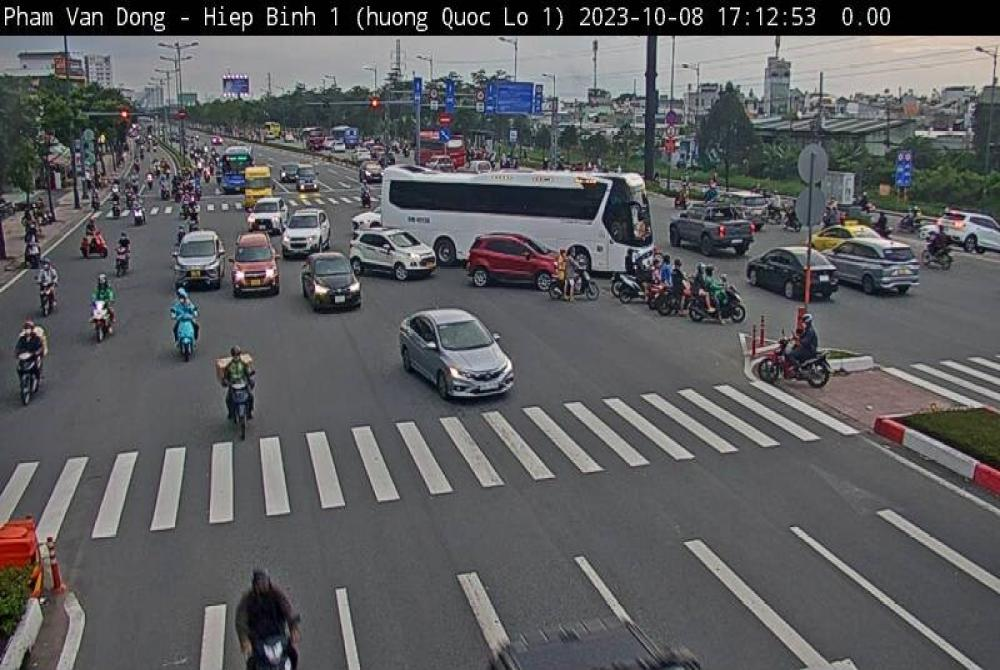bus: (379, 171, 652, 272), (217, 138, 257, 204), (417, 130, 468, 170)
car: (395, 309, 517, 402), (821, 239, 921, 299), (464, 234, 562, 290), (746, 246, 842, 302), (344, 229, 438, 281), (669, 216, 756, 258), (301, 253, 365, 310), (173, 232, 229, 290), (229, 240, 281, 298), (279, 210, 332, 259), (248, 197, 293, 233)
motorbike: (752, 341, 832, 388), (18, 355, 46, 408), (172, 316, 202, 361)
